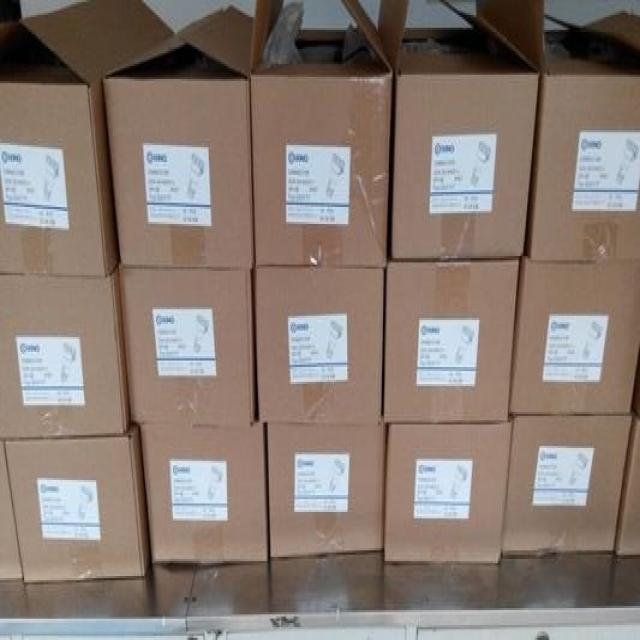box: (1, 1, 175, 278), (475, 2, 638, 258), (377, 0, 539, 257), (102, 7, 254, 266), (249, 2, 393, 269), (0, 261, 130, 439), (3, 425, 150, 581), (383, 259, 519, 425), (118, 267, 254, 425), (253, 264, 386, 423), (510, 258, 639, 417), (137, 422, 270, 563), (384, 419, 513, 563), (501, 415, 633, 554), (265, 422, 386, 559), (614, 413, 639, 554), (2, 438, 23, 578)
